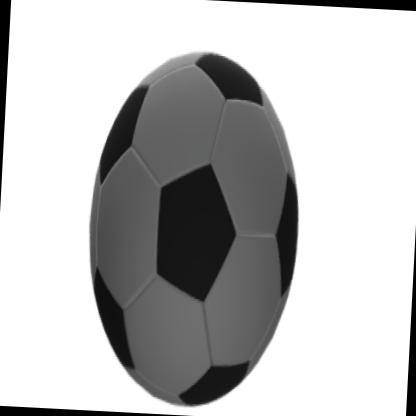ball: (80, 45, 307, 416)
